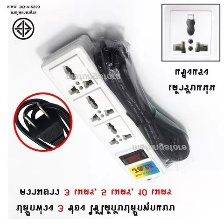three_eye_plug: (38, 32, 169, 183), (166, 7, 214, 57)
